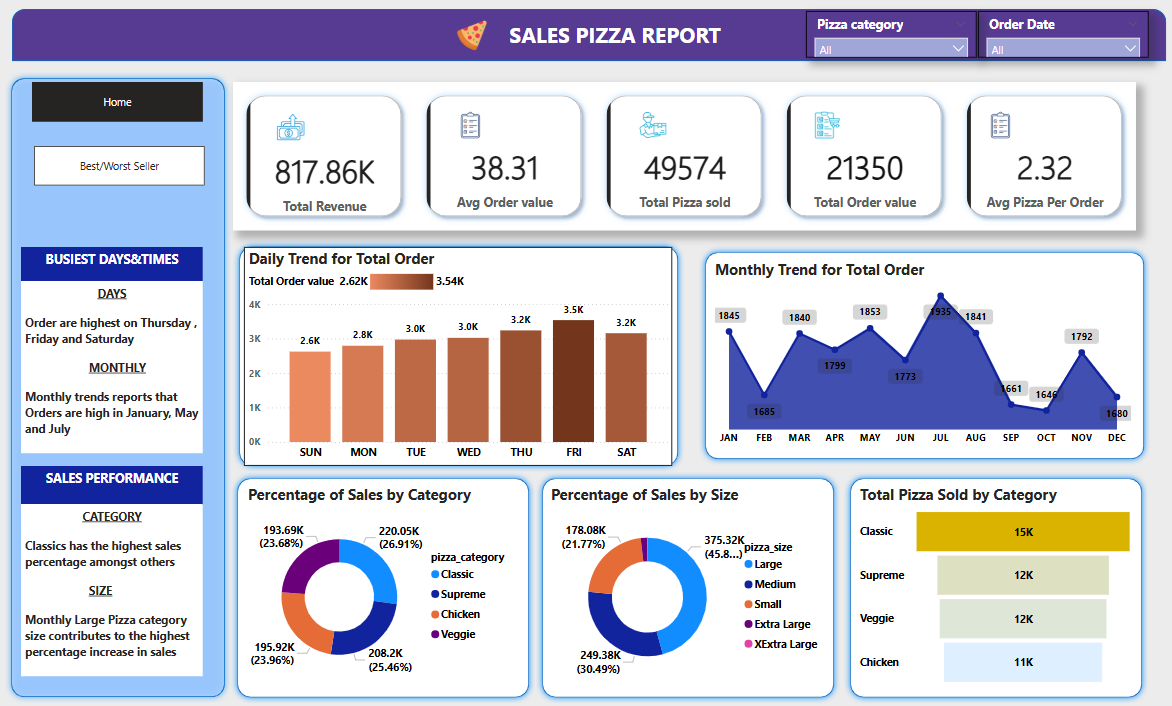

The dashboard page shown, as its layout file describes it:
{"tool":"powerbi","page":{"name":"Home","canvas":[1500,900],"ordinal":0},"visuals":[{"type":"cardVisual","fields":{"Data":["pizza_sales.Total Revenue","pizza_sales.Avg Order value","pizza_sales.Total Pizza sold","pizza_sales.Total Order value","pizza_sales.Avg Pizza Per Order"]},"box":[302,106.1,1142.9,187.8],"z":0},{"type":"shape","box":[34.7,14.3,1449,65.3],"z":1000},{"type":"textbox","box":[634.7,22.4,304.1,49],"z":2000},{"type":"image","box":[559.2,22.4,91.8,49],"z":3000},{"type":"shape","box":[302,306.1,571.4,293.9],"z":4000},{"type":"columnChart","title":"Daily Trend for Total Order","fields":{"Category":["pizza_sales.Day Name2"],"Y":["pizza_sales.Total Order value"]},"box":[316.8,315,541.8,277.2],"z":5000},{"type":"shape","box":[891.8,314.3,571.4,277.6],"z":6000},{"type":"areaChart","title":"Monthly Trend for Total Order","fields":{"Category":["pizza_sales.Month Name2"],"Y":["pizza_sales.Total Order value"]},"box":[908.2,330.6,536.7,244.9],"z":7000},{"type":"shape","box":[300.6,599.4,385.2,293.4],"z":8000},{"type":"shape","box":[685.8,599.4,385.2,293.4],"z":9000},{"type":"shape","box":[14.4,93.6,286.2,799.2],"z":10000},{"type":"shape","box":[1076.4,599.4,385.2,293.4],"z":11000},{"type":"donutChart","title":"Percentage of Sales by Category","fields":{"Category":["pizza_sales.pizza_category"],"Y":["pizza_sales.Total Revenue"]},"box":[316.8,615.6,356.4,261],"z":12000},{"type":"donutChart","title":"Percentage of Sales by Size","fields":{"Category":["pizza_sales.pizza_size"],"Y":["pizza_sales.Total Revenue"]},"box":[700.2,615.6,356.4,261],"z":13000},{"type":"funnel","title":"Total Pizza Sold by Category","fields":{"Category":["pizza_sales.pizza_category"],"Y":["pizza_sales.Total Pizza sold"]},"box":[1090.8,615.6,356.4,261],"z":14000},{"type":"textbox","box":[34.2,315,230.4,43.2],"z":15000},{"type":"textbox","box":[34.2,358.2,230.4,217.8],"z":16000},{"type":"textbox","box":[34.2,592.2,230.4,48.6],"z":17000},{"type":"textbox","box":[34.2,640.8,230.4,217.8],"z":18000},{"type":"slicer","fields":{"Values":["pizza_sales.pizza_category"]},"box":[1027.8,16.2,216,59.4],"z":19000},{"type":"slicer","fields":{"Values":["pizza_sales.order_date"]},"box":[1245.6,16.2,216,59.4],"z":20000},{"type":"pageNavigator","box":[48.6,106.2,216,50.4],"z":21000},{"type":"pageNavigator","box":[50.4,187.2,216,50.4],"z":22000}]}

Visuals, with their boxes in screenshot pixels (x1, y1, x2, y2), scaled from the page's 1500x900 canvas onto the 1172x706 screenshot:
cardVisual - pizza_sales.Total Revenue x pizza_sales.Avg Order value: [x1=236, y1=83, x2=1129, y2=231]
shape: [x1=27, y1=11, x2=1159, y2=62]
textbox: [x1=496, y1=18, x2=734, y2=56]
image: [x1=437, y1=18, x2=509, y2=56]
shape: [x1=236, y1=240, x2=682, y2=471]
"Daily Trend for Total Order" columnChart: [x1=248, y1=247, x2=671, y2=465]
shape: [x1=697, y1=247, x2=1143, y2=464]
"Monthly Trend for Total Order" areaChart: [x1=710, y1=259, x2=1129, y2=451]
shape: [x1=235, y1=470, x2=536, y2=700]
shape: [x1=536, y1=470, x2=837, y2=700]
shape: [x1=11, y1=73, x2=235, y2=700]
shape: [x1=841, y1=470, x2=1142, y2=700]
"Percentage of Sales by Category" donutChart: [x1=248, y1=483, x2=526, y2=688]
"Percentage of Sales by Size" donutChart: [x1=547, y1=483, x2=826, y2=688]
"Total Pizza Sold by Category" funnel: [x1=852, y1=483, x2=1131, y2=688]
textbox: [x1=27, y1=247, x2=207, y2=281]
textbox: [x1=27, y1=281, x2=207, y2=452]
textbox: [x1=27, y1=465, x2=207, y2=503]
textbox: [x1=27, y1=503, x2=207, y2=674]
slicer - pizza_sales.pizza_category: [x1=803, y1=13, x2=972, y2=59]
slicer - pizza_sales.order_date: [x1=973, y1=13, x2=1142, y2=59]
pageNavigator: [x1=38, y1=83, x2=207, y2=123]
pageNavigator: [x1=39, y1=147, x2=208, y2=186]
